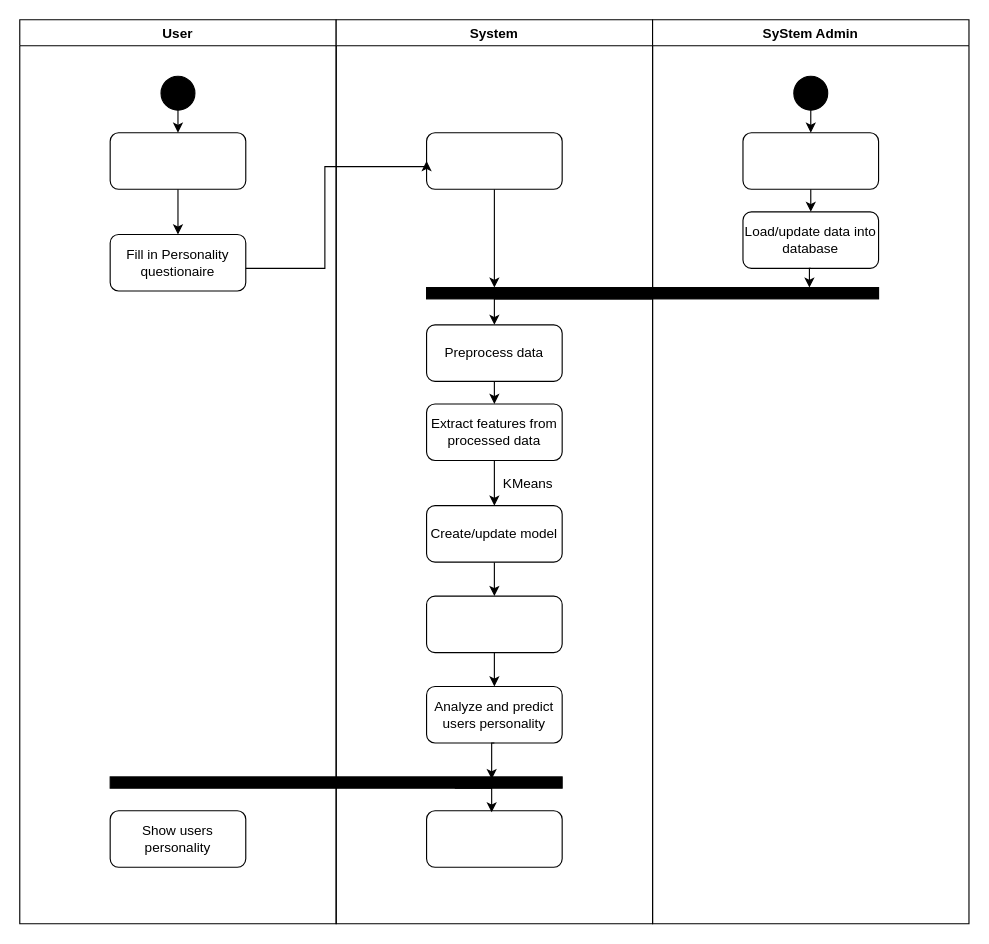
Image size: 989x944. Some labels were removed from this diagram. The centre of each missing label's shape, as x and y in pixels:
Add new personality feature: point (493, 838)
Collect required data: point (810, 160)
Evaluate model: point (493, 624)
Login and provide basic user pfrofile: point (177, 160)
Obtain user-provided data: point (493, 160)
